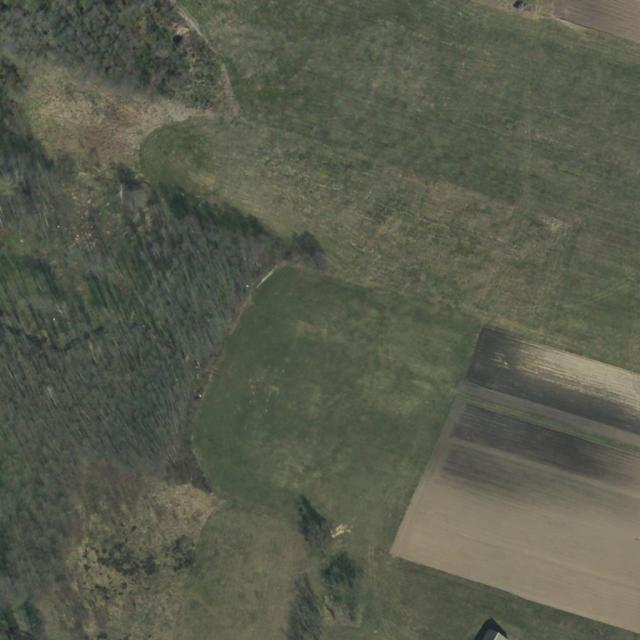agricultural_land: (171, 234, 486, 564), (319, 550, 364, 626)
greenland: (0, 57, 319, 640)
